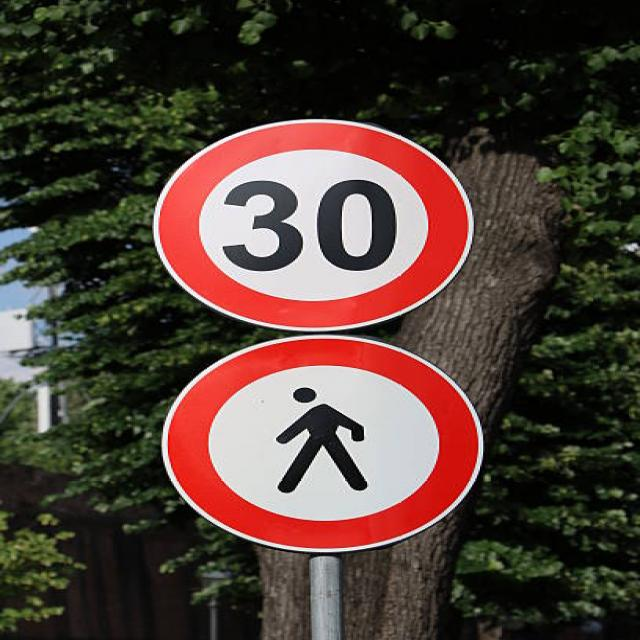speed_limit_30: (132, 120, 517, 333)
